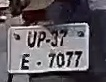0: (56, 51, 66, 71)
3: (49, 29, 59, 50)
7: (57, 29, 69, 48), (48, 50, 57, 68), (73, 50, 83, 66), (64, 51, 74, 66)
E: (19, 53, 31, 69)
P: (35, 30, 48, 47)
U: (26, 29, 37, 49)
